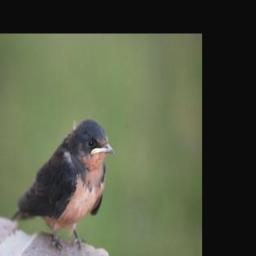Swallow: (11, 116, 115, 253)
